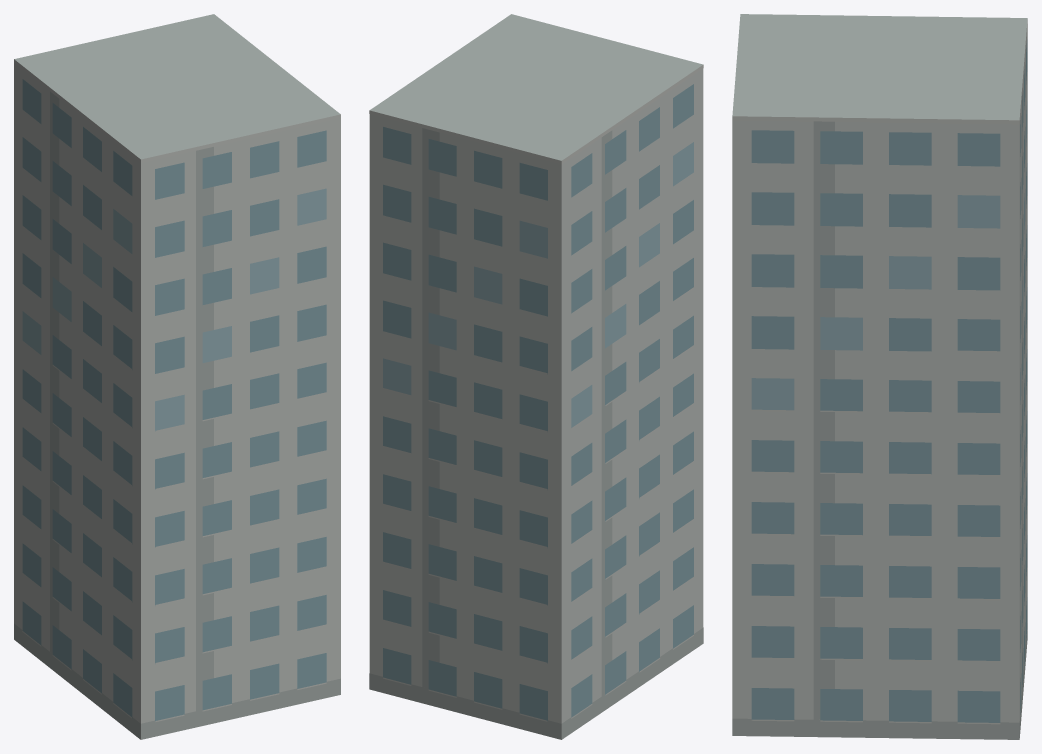
The model's file is residential-622deddf-86ff-4956-b52d-15df286105ad.glb.
3 views of the same model, side by side, from view 1: azimuth 30°, elevation 25°; view 2: azimuth 150°, elevation 25°; view 3: azimuth 270°, elevation 25° (orthographic). The views are drawn at different scales.
Parts seen in each view (by area): view 1: residential-622deddf-86ff-4956-b52d-15df286105ad.tmp; view 2: residential-622deddf-86ff-4956-b52d-15df286105ad.tmp; view 3: residential-622deddf-86ff-4956-b52d-15df286105ad.tmp.
Part boxes in pixels (box(x1,y1,x2,y2)): residential-622deddf-86ff-4956-b52d-15df286105ad.tmp: box(14, 14, 340, 739); residential-622deddf-86ff-4956-b52d-15df286105ad.tmp: box(369, 14, 703, 739); residential-622deddf-86ff-4956-b52d-15df286105ad.tmp: box(732, 14, 1027, 739).
Size of the model in its own units: 13.99 by 38 by 16.42.
